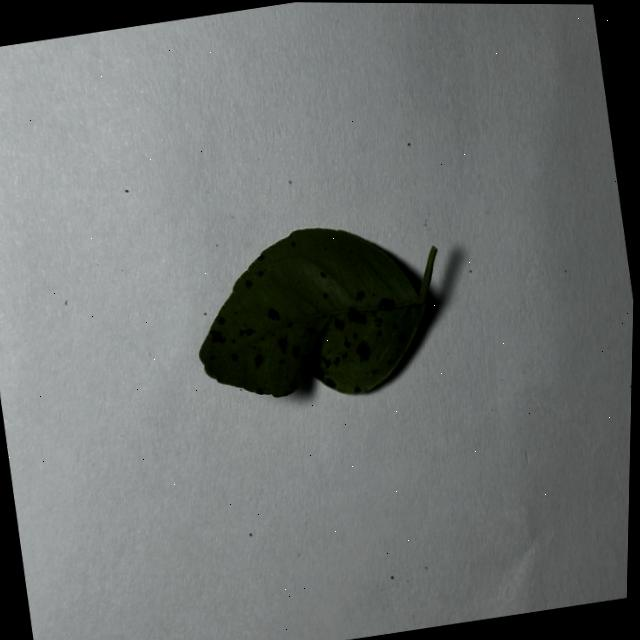sooty_mold: (199, 229, 434, 397)
